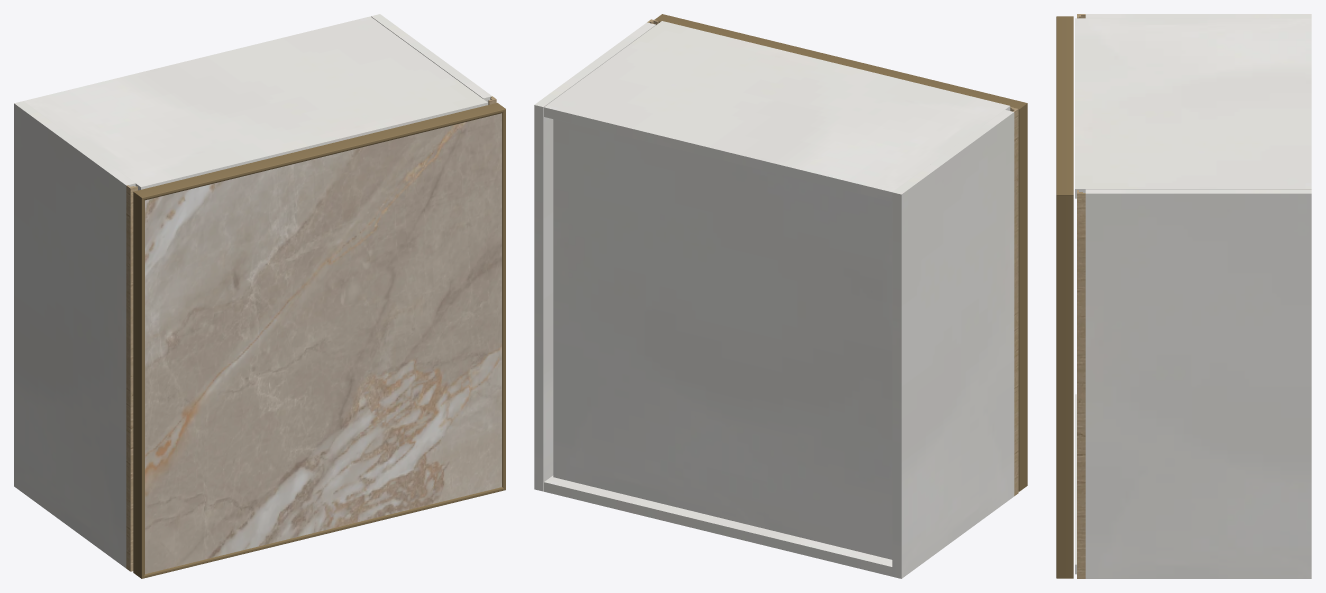
File: LO-SH-NHX-ST-1SX-RHS-XXX-600-600-336-15.glb
The picture shows the model from 3 angles, left to right: view 1: azimuth 30°, elevation 25°; view 2: azimuth 150°, elevation 25°; view 3: azimuth 270°, elevation 25°; orthographic projection.
Visible parts, largest first — view 1: Object_node_4, TP_node_0, TP, Extrusion_node_1, Extrusion, Object_node_6, Extrusion_node_0, Extrusion_node, TP_node_1; view 2: TP_node_2, TP_node_0, TP, TP_node_1, TP_node, Extrusion_node_1, Extrusion, Object_node_6; view 3: TP_node_1, TP, Extrusion_node, Object_node_12, Extrusion, TP_node_0, TP_node.
Boxes of the visible parts, <box> form: Object_node_4: <box>145,113,501,573</box>; TP_node_0: <box>14,101,135,568</box>; TP: <box>23,16,487,190</box>; Extrusion_node_1: <box>133,192,144,578</box>; Extrusion: <box>134,103,505,200</box>; Object_node_6: <box>126,185,137,571</box>; Extrusion_node_0: <box>142,487,505,578</box>; Extrusion_node: <box>502,109,505,489</box>; TP_node_1: <box>371,14,491,104</box>; TP_node_2: <box>553,119,892,559</box>; TP_node_0: <box>892,110,1014,578</box>; TP: <box>544,21,1010,201</box>; TP_node_1: <box>534,22,655,491</box>; TP_node: <box>544,475,892,576</box>; Extrusion_node_1: <box>1018,103,1027,491</box>; Extrusion: <box>654,14,1027,109</box>; Object_node_6: <box>1010,107,1018,495</box>; TP_node_1: <box>1085,189,1311,578</box>; TP: <box>1075,18,1311,198</box>; Extrusion_node: <box>1056,195,1073,578</box>; Object_node_12: <box>1077,190,1085,578</box>; Extrusion: <box>1056,16,1073,195</box>; TP_node_0: <box>1085,14,1311,18</box>; TP_node: <box>1075,394,1076,574</box>.
Size of what is drawn, in the model's own units: 0.6 by 0.6 by 0.3602.
7 materials, 3 textured.
